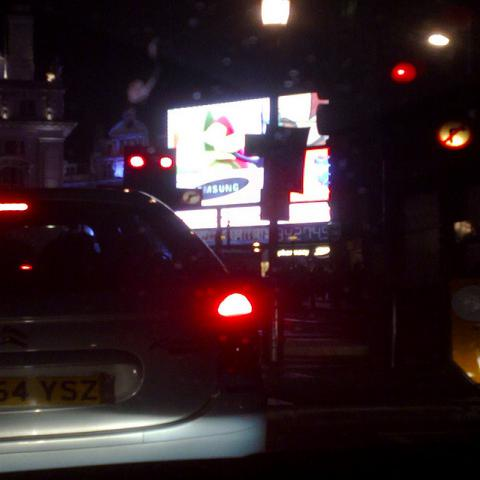car: (0, 182, 272, 474)
